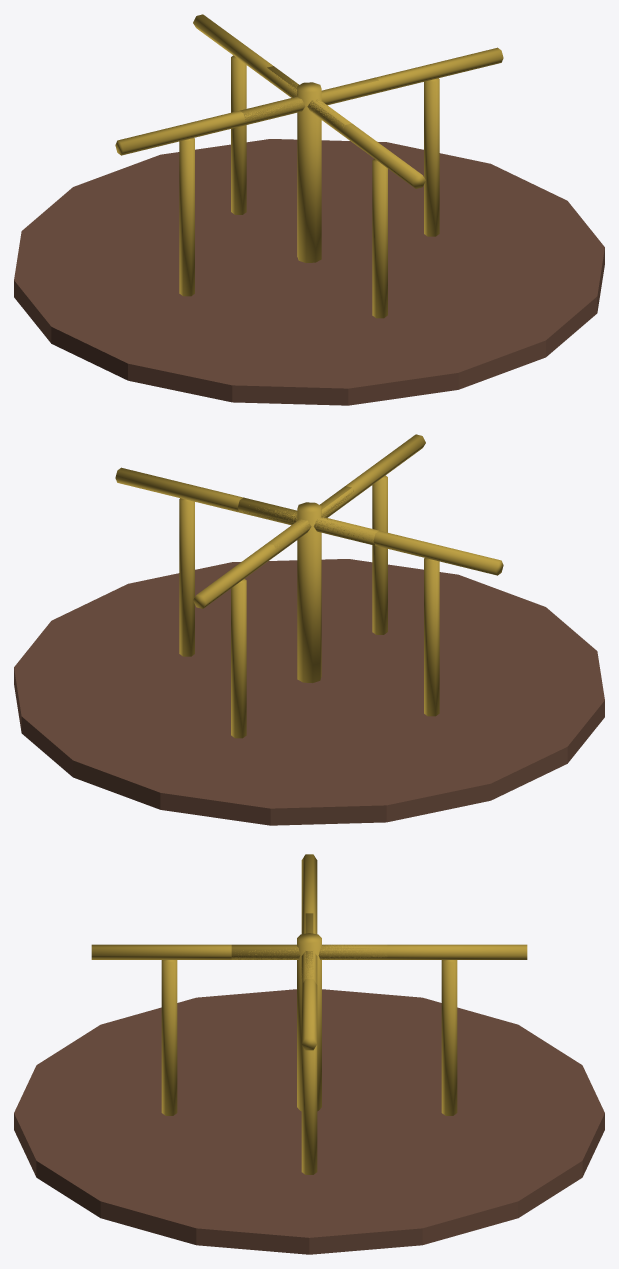
Rendered from carousel.glb.
3 views of the same model, one above another, from view 1: azimuth 30°, elevation 25°; view 2: azimuth 150°, elevation 25°; view 3: azimuth 270°, elevation 25° (orthographic).
Parts seen in each view (by area): view 1: Carousel; view 2: Carousel; view 3: Carousel.
Part boxes in pixels (x1,y1,x2,y2): Carousel: (14, 14, 604, 405); Carousel: (14, 434, 604, 825); Carousel: (14, 854, 604, 1254).
Size of the model in its own units: 1.9 by 1.05 by 1.9.
